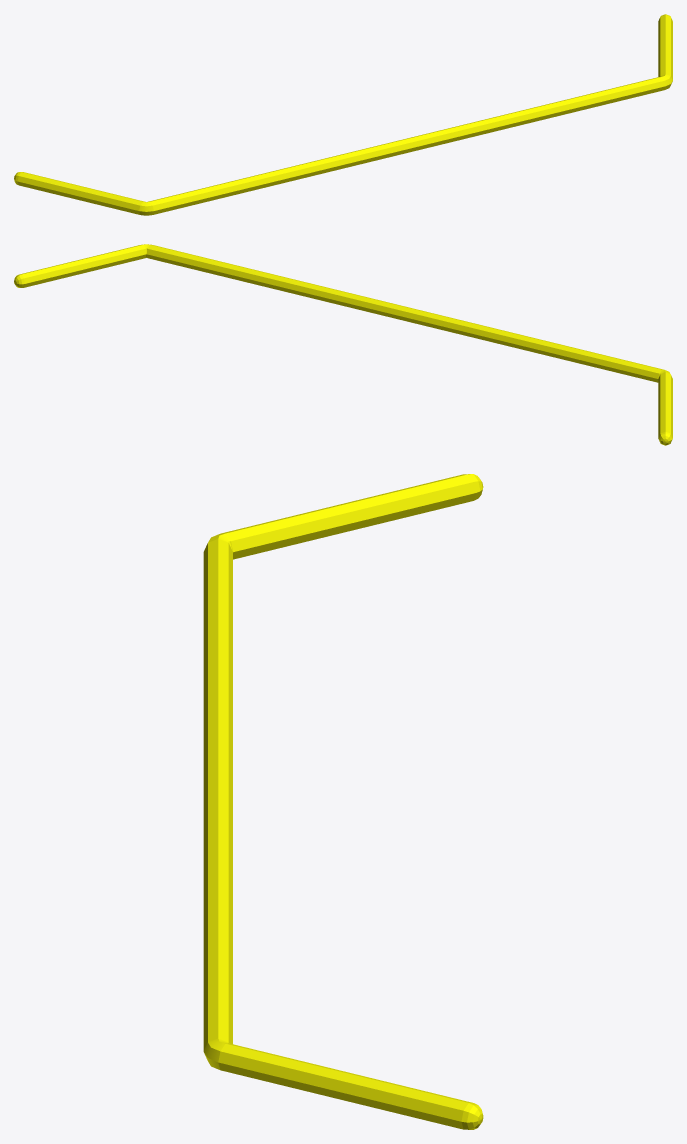
File: pipe_edge_connected.glb
3 views of the same model, one above another, from view 1: azimuth 30°, elevation 25°; view 2: azimuth 150°, elevation 25°; view 3: azimuth 270°, elevation 25° (orthographic). The views are drawn at different scales.
Parts seen in each view (by area): view 1: pipe_1; view 2: pipe_1; view 3: pipe_1.
Part boxes in pixels (x1=…): pipe_1: x1=14, y1=14, x2=672, y2=215; pipe_1: x1=14, y1=244, x2=672, y2=445; pipe_1: x1=203, y1=474, x2=483, y2=1129.
Bounding box in the file's own units: 5.14 × 0.1 × 0.9478.
